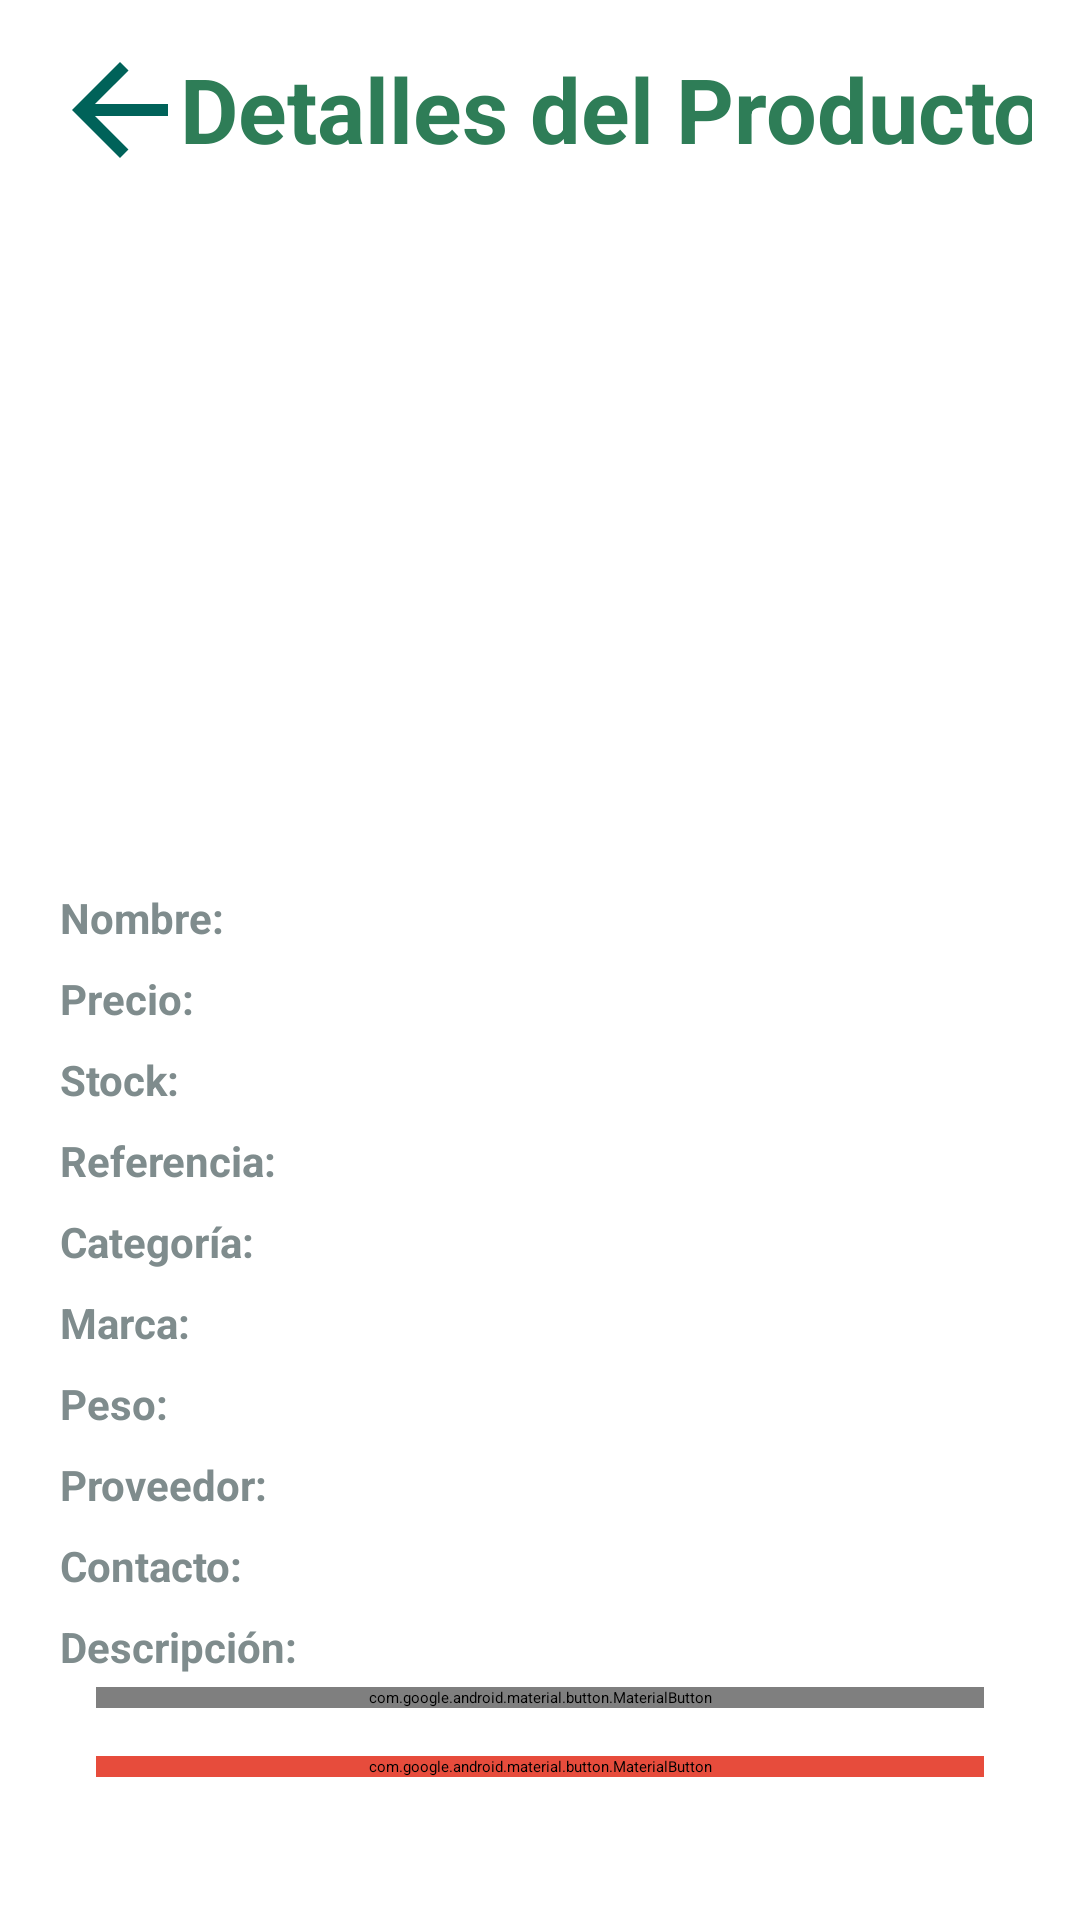

Icon click points for this 1080w x 1920h phone screenshot, format (x,y):
Botón para regresar: (120,110)
